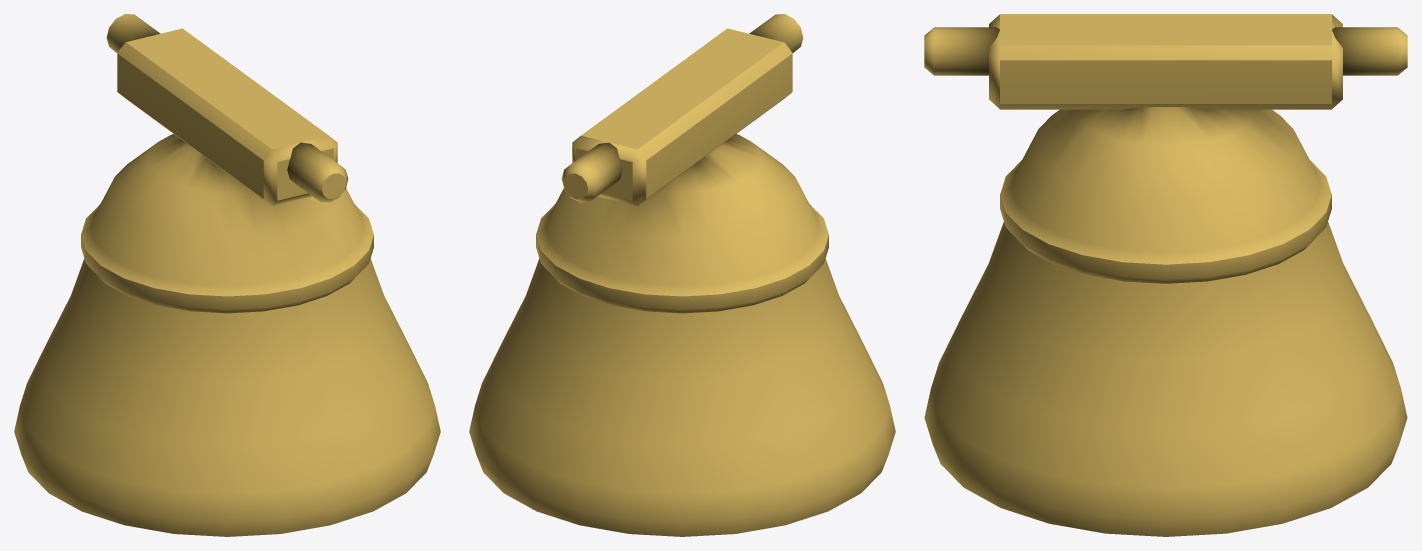
The model's file is clock_bell.glb.
3 renders of one model, left to right at view 1: azimuth 30°, elevation 25°; view 2: azimuth 150°, elevation 25°; view 3: azimuth 270°, elevation 25°, orthographic. The views are drawn at different scales.
Parts seen in each view (by area): view 1: ClockBell_Bell; view 2: ClockBell_Bell; view 3: ClockBell_Bell.
Boxes of the visible parts, x1,y1,x2,y2 form: ClockBell_Bell: [14, 14, 440, 536]; ClockBell_Bell: [469, 14, 895, 536]; ClockBell_Bell: [924, 14, 1407, 536].
Size of the model in its own units: 0.03 by 0.028 by 0.03.
